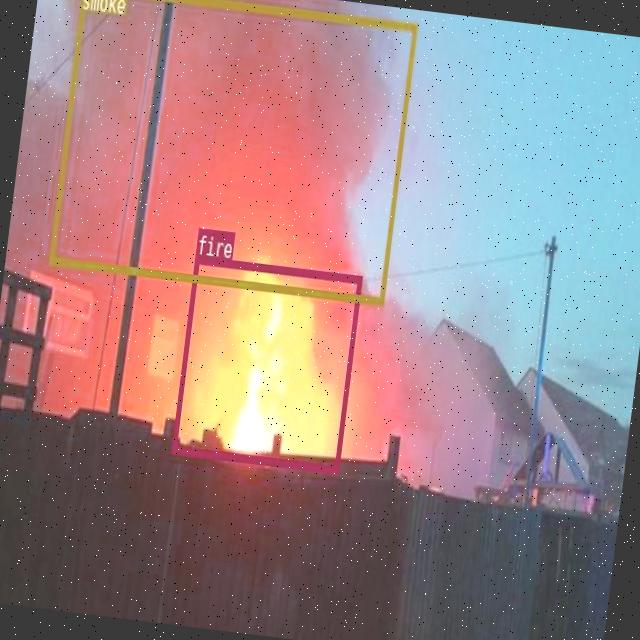fire: (171, 253, 361, 471)
smoke: (48, 0, 417, 303)
